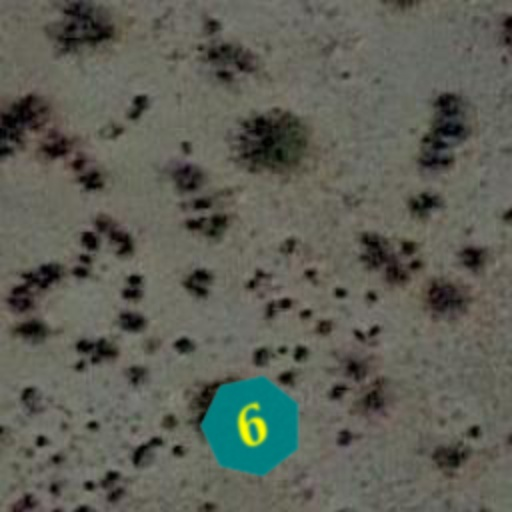heptagon: (182, 356, 322, 496)
